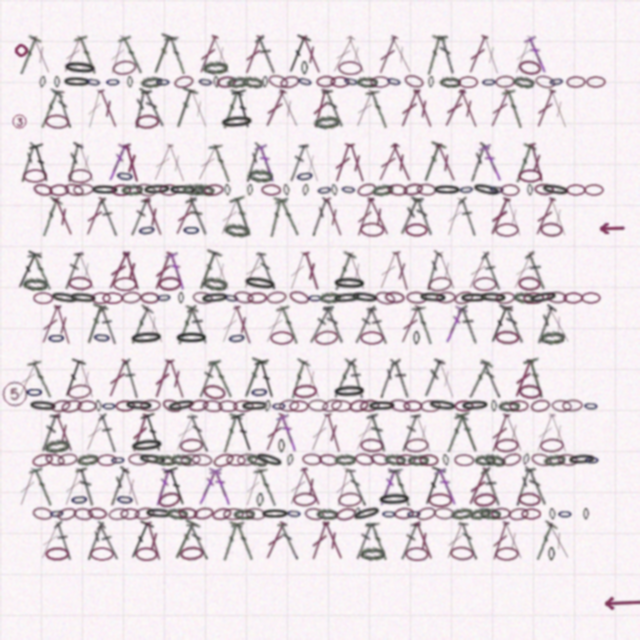chain: (242, 274, 278, 293), (253, 450, 285, 470), (129, 437, 165, 454), (351, 504, 383, 523), (62, 60, 98, 76), (219, 114, 255, 130), (129, 330, 164, 346), (471, 181, 502, 199), (528, 289, 559, 306), (166, 397, 197, 414), (332, 276, 367, 291), (332, 384, 367, 399), (377, 492, 412, 507), (540, 182, 571, 198), (49, 290, 80, 306), (174, 331, 209, 345), (43, 437, 70, 455), (157, 490, 182, 509), (427, 275, 453, 293), (349, 290, 380, 305), (427, 398, 458, 413), (137, 452, 168, 467), (201, 275, 228, 292), (202, 383, 227, 401), (313, 114, 340, 130), (223, 222, 250, 238), (112, 59, 137, 76), (314, 329, 339, 346), (67, 383, 92, 400), (68, 291, 98, 305), (200, 291, 230, 305), (332, 291, 362, 305), (28, 399, 58, 413), (212, 451, 235, 469), (518, 59, 542, 76), (468, 505, 492, 522), (161, 397, 183, 415), (202, 60, 228, 75), (247, 168, 273, 183), (142, 183, 172, 196), (418, 291, 448, 304), (478, 291, 508, 304), (539, 330, 565, 345), (124, 399, 154, 412), (460, 399, 490, 412), (567, 453, 597, 466), (144, 507, 174, 520), (359, 546, 385, 561), (245, 452, 269, 468), (473, 492, 497, 508), (179, 438, 204, 453), (404, 438, 429, 453), (179, 546, 204, 561), (267, 73, 289, 90), (403, 73, 425, 90), (356, 181, 378, 198), (288, 289, 310, 306), (453, 289, 475, 306), (321, 397, 343, 414), (501, 451, 523, 468), (415, 505, 437, 522), (371, 182, 394, 198), (60, 398, 83, 414), (31, 452, 54, 468), (483, 452, 506, 468), (530, 452, 553, 468), (22, 277, 48, 291), (62, 76, 92, 88), (45, 114, 69, 129), (135, 114, 159, 129), (90, 184, 120, 196), (168, 184, 198, 196), (432, 184, 462, 196), (360, 222, 384, 237), (68, 276, 92, 291), (459, 292, 489, 304), (495, 330, 519, 345), (293, 384, 317, 399), (518, 384, 542, 399), (240, 400, 270, 412), (367, 400, 397, 412), (360, 438, 384, 453), (495, 438, 519, 453), (540, 438, 564, 453), (293, 492, 317, 507), (338, 492, 362, 507), (260, 508, 290, 520), (450, 546, 474, 561), (173, 74, 195, 90), (279, 74, 301, 90), (534, 74, 556, 90), (32, 182, 54, 198), (63, 182, 85, 198), (135, 182, 157, 198), (374, 290, 396, 306), (50, 398, 72, 414), (44, 452, 66, 468), (56, 506, 78, 522), (211, 506, 233, 522), (335, 506, 357, 522), (192, 182, 215, 197), (540, 222, 563, 237), (158, 276, 181, 291), (518, 276, 541, 291), (76, 452, 99, 467), (518, 492, 541, 507), (450, 506, 473, 521), (338, 61, 362, 75), (23, 169, 47, 183), (68, 169, 92, 183), (518, 169, 542, 183), (495, 223, 519, 237), (113, 277, 137, 291), (473, 277, 497, 291), (270, 331, 294, 345), (360, 331, 384, 345), (428, 493, 452, 507), (45, 547, 69, 561), (90, 547, 114, 561), (405, 547, 429, 561), (495, 547, 519, 561), (402, 182, 424, 197), (348, 398, 370, 413), (389, 398, 411, 413), (369, 452, 391, 467), (140, 75, 163, 89), (226, 75, 249, 89), (241, 75, 264, 89), (512, 75, 535, 89), (405, 223, 428, 237), (543, 453, 566, 467), (135, 547, 158, 561), (115, 168, 135, 184), (295, 168, 315, 184), (137, 222, 157, 238), (227, 330, 247, 346), (233, 290, 254, 305), (266, 290, 287, 305), (188, 398, 209, 413), (530, 398, 551, 413), (57, 452, 78, 467), (354, 452, 375, 467), (32, 506, 53, 521), (134, 506, 155, 521), (193, 506, 214, 521), (191, 453, 213, 467), (92, 330, 112, 345), (115, 492, 135, 507), (216, 75, 237, 89), (203, 183, 224, 197), (387, 183, 408, 197), (192, 291, 213, 305), (495, 291, 516, 305), (202, 399, 223, 413), (359, 398, 380, 412), (551, 399, 572, 413), (180, 453, 201, 467), (318, 453, 339, 467), (557, 453, 578, 467), (73, 507, 94, 521), (108, 507, 129, 521), (245, 507, 266, 521), (304, 507, 325, 521), (508, 507, 529, 521), (121, 183, 143, 196), (182, 183, 204, 196), (319, 291, 341, 304), (513, 291, 535, 304), (170, 453, 192, 466), (334, 453, 356, 466), (384, 453, 406, 466), (166, 507, 188, 520), (479, 507, 501, 520), (70, 492, 89, 507), (73, 183, 94, 196), (416, 183, 437, 196), (121, 291, 142, 304), (384, 291, 405, 304), (406, 291, 427, 304), (140, 399, 161, 412), (562, 399, 583, 412), (128, 453, 149, 466), (87, 507, 108, 520), (296, 74, 314, 89), (342, 74, 360, 89), (385, 74, 403, 89), (182, 223, 201, 237), (47, 331, 66, 345), (25, 385, 44, 399), (250, 385, 269, 399), (356, 76, 378, 88), (439, 76, 461, 88), (498, 400, 520, 412), (154, 454, 176, 466), (407, 454, 429, 466), (474, 454, 496, 466), (233, 508, 255, 520), (316, 508, 338, 520), (316, 75, 336, 88), (495, 75, 515, 88), (534, 183, 554, 196), (436, 291, 456, 304), (547, 291, 567, 304), (279, 399, 299, 412), (308, 399, 328, 412), (237, 453, 257, 466), (302, 453, 322, 466), (178, 507, 198, 520), (394, 507, 414, 520), (434, 507, 454, 520), (491, 507, 511, 520), (102, 292, 123, 304), (523, 292, 544, 304), (233, 400, 254, 412), (331, 400, 352, 412), (420, 400, 441, 412), (223, 508, 244, 520), (330, 76, 350, 88), (370, 76, 390, 88), (458, 76, 478, 88), (566, 76, 586, 88), (586, 76, 606, 88), (49, 184, 69, 196), (111, 184, 131, 196), (159, 184, 179, 196), (261, 184, 281, 196), (500, 184, 520, 196), (566, 184, 586, 196), (584, 184, 604, 196), (33, 292, 53, 304), (91, 292, 111, 304), (140, 292, 160, 304), (247, 292, 267, 304), (563, 292, 583, 304), (581, 292, 601, 304), (77, 400, 97, 412), (115, 400, 135, 412), (218, 400, 238, 412), (289, 400, 309, 412), (403, 400, 423, 412), (454, 400, 474, 412), (509, 400, 529, 412), (97, 454, 117, 466), (226, 454, 246, 466), (396, 454, 416, 466), (419, 454, 439, 466), (454, 454, 474, 466), (120, 508, 140, 520), (521, 508, 541, 520), (85, 75, 102, 89), (197, 75, 214, 89), (316, 183, 333, 197), (223, 291, 240, 305), (548, 75, 565, 88), (340, 183, 357, 196), (458, 183, 475, 196), (489, 183, 505, 196), (156, 291, 172, 304), (49, 507, 65, 520), (286, 507, 302, 520), (105, 76, 121, 88), (155, 76, 171, 88), (481, 76, 497, 88), (307, 292, 323, 304), (101, 400, 117, 412), (271, 400, 287, 412), (583, 400, 599, 412), (110, 454, 126, 466), (584, 454, 600, 466), (381, 508, 397, 520), (406, 508, 422, 520), (557, 508, 573, 520), (256, 493, 264, 507), (522, 453, 530, 466), (353, 507, 361, 520), (301, 61, 308, 75), (413, 331, 420, 345), (278, 439, 285, 453), (548, 547, 555, 561), (286, 454, 294, 466), (442, 454, 450, 466), (39, 76, 46, 88), (213, 76, 220, 88), (224, 184, 231, 196), (283, 184, 290, 196), (302, 184, 309, 196), (331, 184, 338, 196), (95, 400, 102, 412), (264, 400, 271, 412), (549, 508, 556, 520), (54, 76, 60, 88), (127, 76, 133, 88), (262, 76, 268, 88), (428, 76, 434, 88), (247, 184, 253, 196), (527, 184, 533, 196), (178, 292, 184, 304), (491, 400, 497, 412), (583, 508, 589, 520)
double: (169, 519, 201, 562), (462, 358, 494, 400), (12, 249, 43, 292), (193, 249, 223, 292), (238, 357, 268, 400), (454, 411, 484, 454), (125, 519, 155, 562), (125, 304, 155, 346), (328, 358, 358, 400), (148, 33, 177, 76), (283, 33, 312, 76), (170, 87, 199, 130), (418, 141, 447, 184), (229, 195, 258, 238), (485, 303, 514, 346), (328, 34, 358, 75), (544, 304, 574, 345), (544, 520, 574, 561), (13, 34, 42, 76), (117, 34, 146, 76), (35, 88, 64, 130), (274, 196, 303, 238), (27, 250, 56, 292), (328, 250, 357, 292), (27, 358, 56, 400), (207, 358, 236, 400), (440, 412, 469, 454), (530, 520, 559, 562), (81, 303, 109, 346), (59, 357, 87, 400), (230, 411, 258, 454), (163, 465, 191, 508), (419, 465, 447, 508), (387, 34, 416, 75), (440, 88, 469, 129), (193, 142, 222, 183), (216, 88, 244, 130), (509, 142, 537, 184), (36, 196, 64, 238), (171, 304, 199, 346), (28, 466, 56, 508), (253, 466, 281, 508), (523, 357, 550, 400), (140, 411, 167, 454), (523, 34, 551, 75), (261, 88, 289, 129), (275, 88, 303, 129), (486, 88, 514, 129), (374, 142, 402, 183), (478, 142, 506, 183), (171, 196, 199, 237), (365, 196, 393, 237), (104, 250, 132, 291), (239, 250, 267, 291), (464, 250, 492, 291), (509, 250, 537, 291), (140, 304, 168, 345), (261, 304, 289, 345), (396, 304, 424, 345), (14, 358, 42, 399), (171, 412, 199, 453), (351, 412, 379, 453), (194, 466, 222, 507), (433, 466, 461, 507), (464, 466, 492, 507), (36, 520, 64, 561), (261, 520, 289, 561), (73, 34, 100, 76), (374, 34, 401, 76), (365, 88, 392, 130), (28, 142, 55, 184), (208, 142, 235, 184), (275, 304, 302, 346), (216, 412, 243, 454), (388, 466, 415, 508), (216, 520, 243, 562), (230, 520, 257, 562), (365, 520, 392, 562), (28, 34, 55, 75), (59, 34, 86, 75), (208, 34, 235, 75), (298, 34, 325, 75), (343, 34, 370, 75), (464, 34, 491, 75), (95, 88, 122, 129), (351, 88, 378, 129), (396, 88, 423, 129), (104, 142, 131, 183), (149, 142, 176, 183), (388, 142, 415, 183), (433, 142, 460, 183), (50, 196, 77, 237), (81, 196, 108, 237), (185, 196, 212, 237), (216, 196, 243, 237), (396, 196, 423, 237), (486, 196, 513, 237), (531, 196, 558, 237), (73, 250, 100, 291), (441, 304, 468, 345), (104, 358, 131, 399), (81, 412, 108, 453), (261, 412, 288, 453), (306, 412, 333, 453), (298, 466, 325, 507), (320, 520, 347, 561), (500, 520, 527, 561), (164, 34, 190, 76), (240, 34, 266, 76), (420, 34, 446, 76), (510, 34, 536, 76), (546, 88, 572, 130), (164, 142, 190, 184), (321, 196, 347, 238), (150, 250, 176, 292), (344, 250, 370, 292), (411, 304, 437, 346), (254, 358, 280, 400), (285, 358, 311, 400), (299, 358, 325, 400), (546, 412, 572, 454), (375, 466, 401, 508), (95, 521, 122, 561), (195, 34, 221, 75), (186, 88, 212, 129), (411, 88, 437, 129), (456, 88, 482, 129), (532, 88, 558, 129), (141, 196, 167, 237), (375, 250, 401, 291), (434, 250, 460, 291), (37, 304, 63, 345), (217, 304, 243, 345), (420, 358, 446, 399), (510, 358, 536, 399), (51, 412, 77, 453), (501, 412, 527, 453), (532, 412, 558, 453), (209, 466, 235, 507), (285, 466, 311, 507), (411, 520, 437, 561), (442, 520, 468, 561), (479, 34, 504, 76), (231, 88, 256, 130), (501, 88, 526, 130), (74, 142, 99, 184), (254, 142, 279, 184), (299, 142, 324, 184), (330, 142, 355, 184), (352, 196, 377, 238), (442, 196, 467, 238), (546, 196, 571, 238), (209, 250, 234, 292), (285, 250, 310, 292), (231, 304, 256, 346), (74, 358, 99, 400), (150, 358, 175, 400), (434, 358, 459, 400), (276, 412, 301, 454), (366, 412, 391, 454), (411, 412, 436, 454), (487, 412, 512, 454), (15, 466, 40, 508), (60, 466, 85, 508), (119, 466, 144, 508), (307, 520, 332, 562), (307, 305, 333, 345), (254, 34, 279, 75), (141, 88, 166, 129), (465, 142, 490, 183), (524, 250, 549, 291), (186, 304, 211, 345), (532, 304, 557, 345), (105, 466, 130, 507), (120, 142, 144, 184), (345, 142, 369, 184), (263, 196, 287, 238), (502, 196, 526, 238), (120, 250, 144, 292), (165, 250, 189, 292), (300, 250, 324, 292), (390, 250, 414, 292), (165, 358, 189, 400), (128, 412, 152, 454), (75, 466, 99, 508), (151, 466, 175, 508), (241, 466, 265, 508), (142, 520, 166, 562), (488, 520, 512, 562), (352, 305, 377, 345), (366, 305, 391, 345), (186, 521, 211, 561), (457, 304, 481, 345), (480, 466, 504, 507), (106, 34, 129, 76), (83, 88, 106, 130), (52, 304, 75, 346), (322, 412, 345, 454), (331, 466, 354, 508), (97, 197, 121, 237), (480, 251, 504, 291), (187, 413, 211, 453), (345, 467, 369, 507), (83, 521, 107, 561), (277, 521, 301, 561), (322, 88, 345, 129), (457, 196, 480, 237), (502, 304, 525, 345), (196, 358, 219, 399), (390, 358, 413, 399), (38, 412, 61, 453), (525, 466, 548, 507), (353, 520, 376, 561), (128, 197, 151, 237), (308, 197, 331, 237), (97, 305, 120, 345), (376, 359, 399, 399), (480, 359, 503, 399), (97, 413, 120, 453), (398, 521, 421, 561), (309, 88, 331, 129), (17, 142, 39, 183), (62, 142, 84, 183), (242, 142, 264, 183), (287, 142, 309, 183), (526, 142, 548, 183), (62, 250, 84, 291), (256, 250, 278, 291), (323, 304, 345, 345), (399, 412, 421, 453), (512, 466, 534, 507), (53, 520, 75, 561), (458, 520, 480, 561), (129, 88, 150, 129), (413, 196, 434, 237), (121, 358, 142, 399), (54, 88, 74, 129), (423, 250, 443, 291), (347, 358, 367, 399), (437, 34, 456, 75)
noise: (0, 379, 29, 408), (602, 594, 640, 611), (10, 112, 29, 131), (597, 223, 625, 234), (13, 42, 29, 58)
